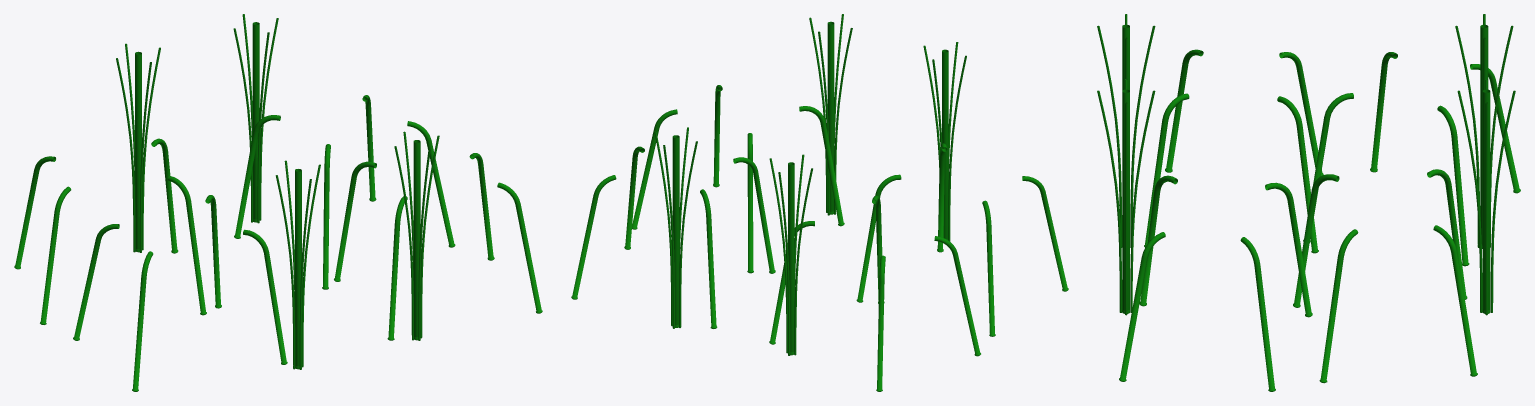
Rendered from Legs.FBX.
The picture shows the model from 3 angles, left to right: view 1: azimuth 30°, elevation 25°; view 2: azimuth 150°, elevation 25°; view 3: azimuth 270°, elevation 25°; orthographic projection. The views are drawn at different scales.
Visible parts, largest first — view 1: Object058; view 2: Object058; view 3: Object058.
Boxes of the visible parts, box(x1,y1,x2,y2) form: Object058: box(14, 14, 542, 391); Object058: box(571, 14, 1068, 391); Object058: box(1097, 14, 1520, 391).
Bounding box in the file's own units: 1.52 × 0.7102 × 1.22.
